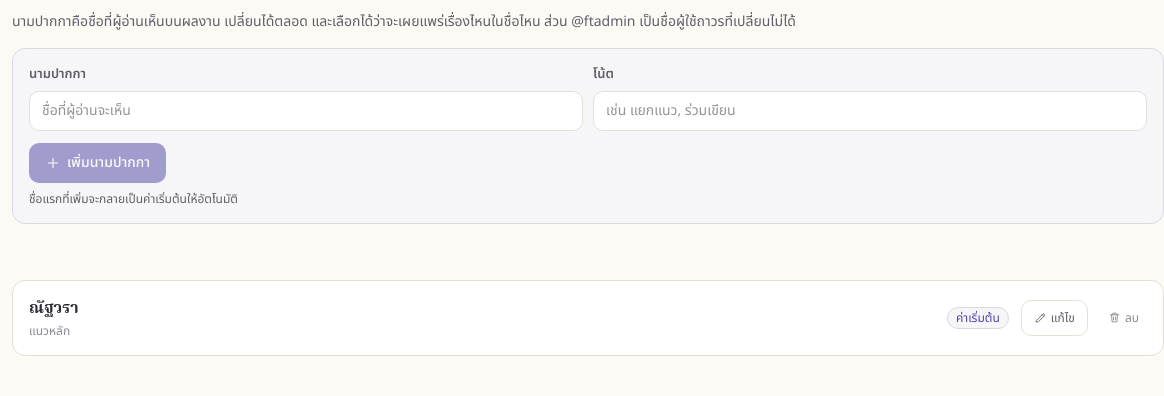
Test: the pen names panel › renames an identity and shows the name the API returned
Click the button with aria-label "แก้ไข ณัฐวรา" at [1054, 318], box [1021,300,1088,336]
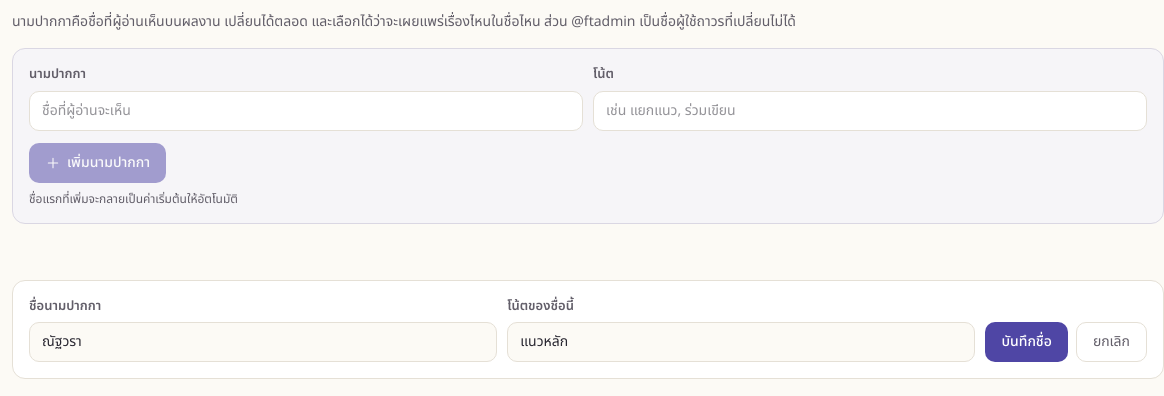
Replace the text in the field labelled "ชื่อนามปากกา" with "นวรา" at [263, 342], box [29,322,497,362]
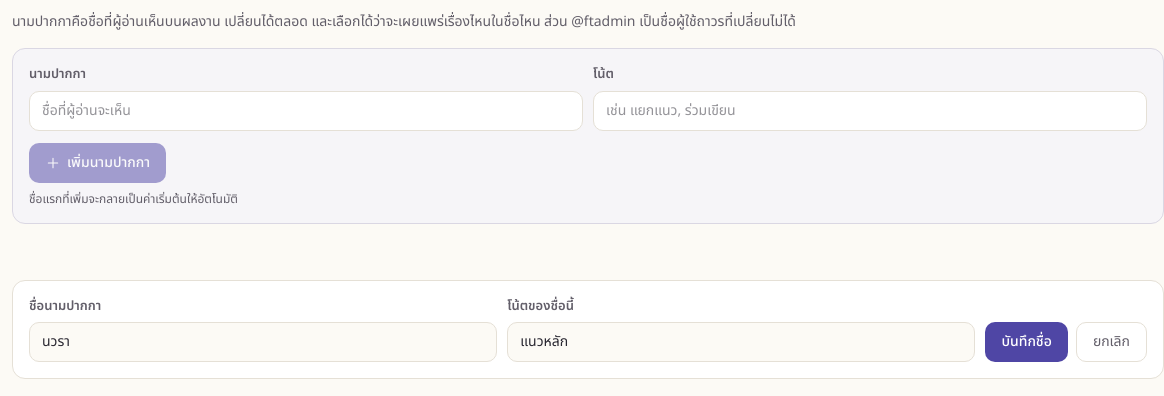
Click the button "บันทึกชื่อ" at [1027, 342], box [985,322,1068,362]
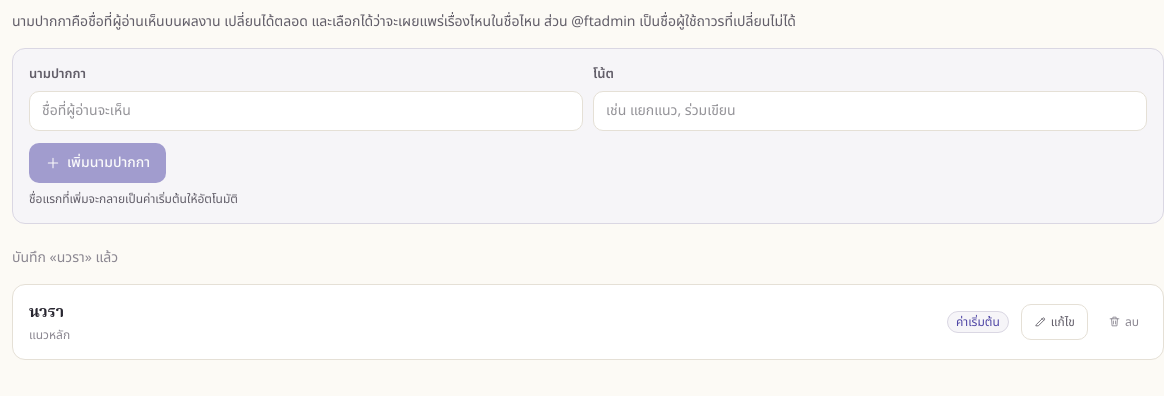
Expected: the text "ณัฐวรา" is not shown
Expected: the text "นวรา" is shown, [29,300,64,326]
